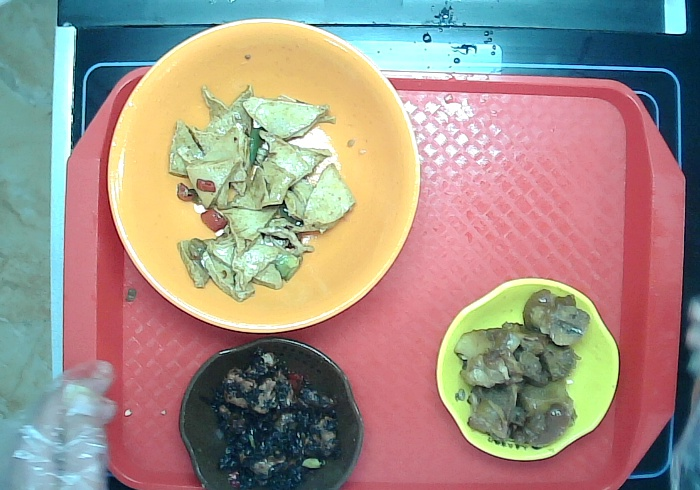YKMZ-Huang_Se_Ao_Bian_Wan: (434, 271, 618, 460)
YKMZ-Ju_Se_Tang_Wan: (107, 18, 423, 336)
YKMZ-Ka_Fei_Ao_Bian_Wan: (177, 335, 364, 490)
